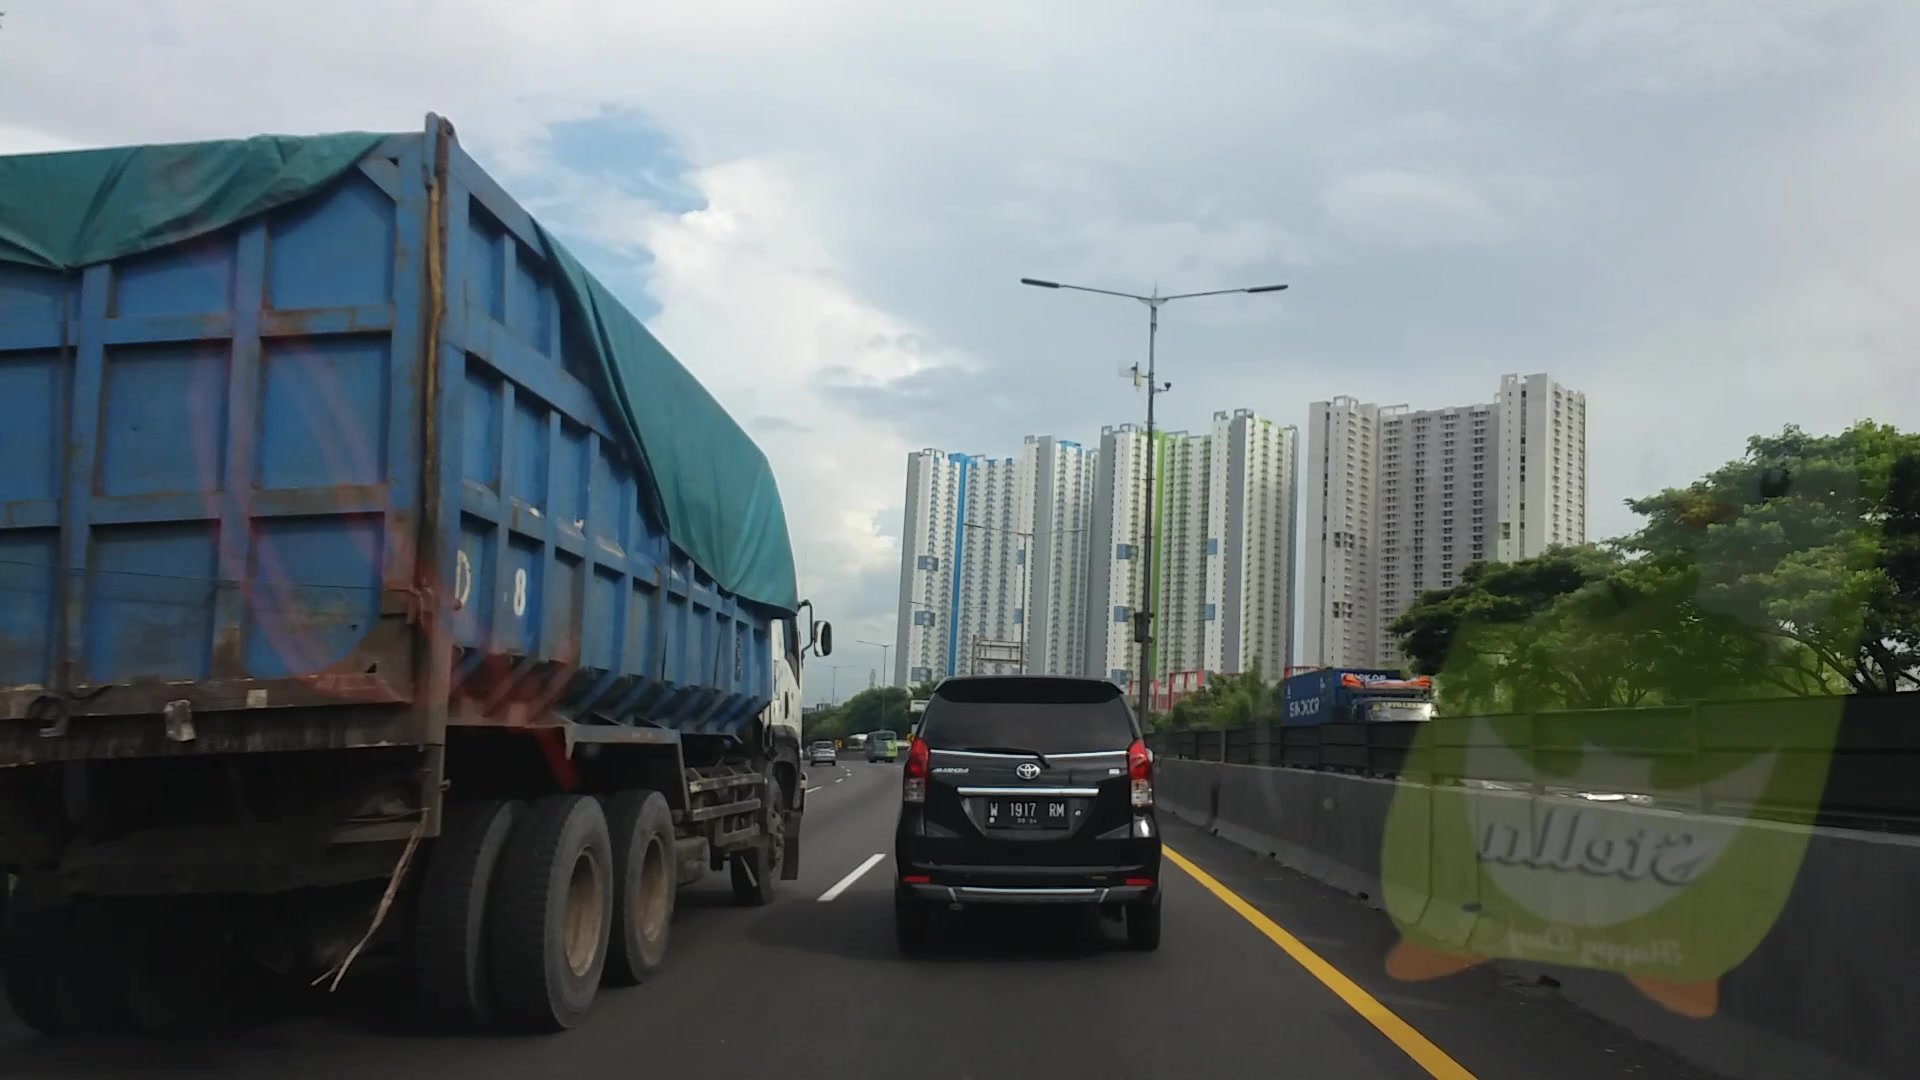plate_positive: (986, 799, 1068, 825)
